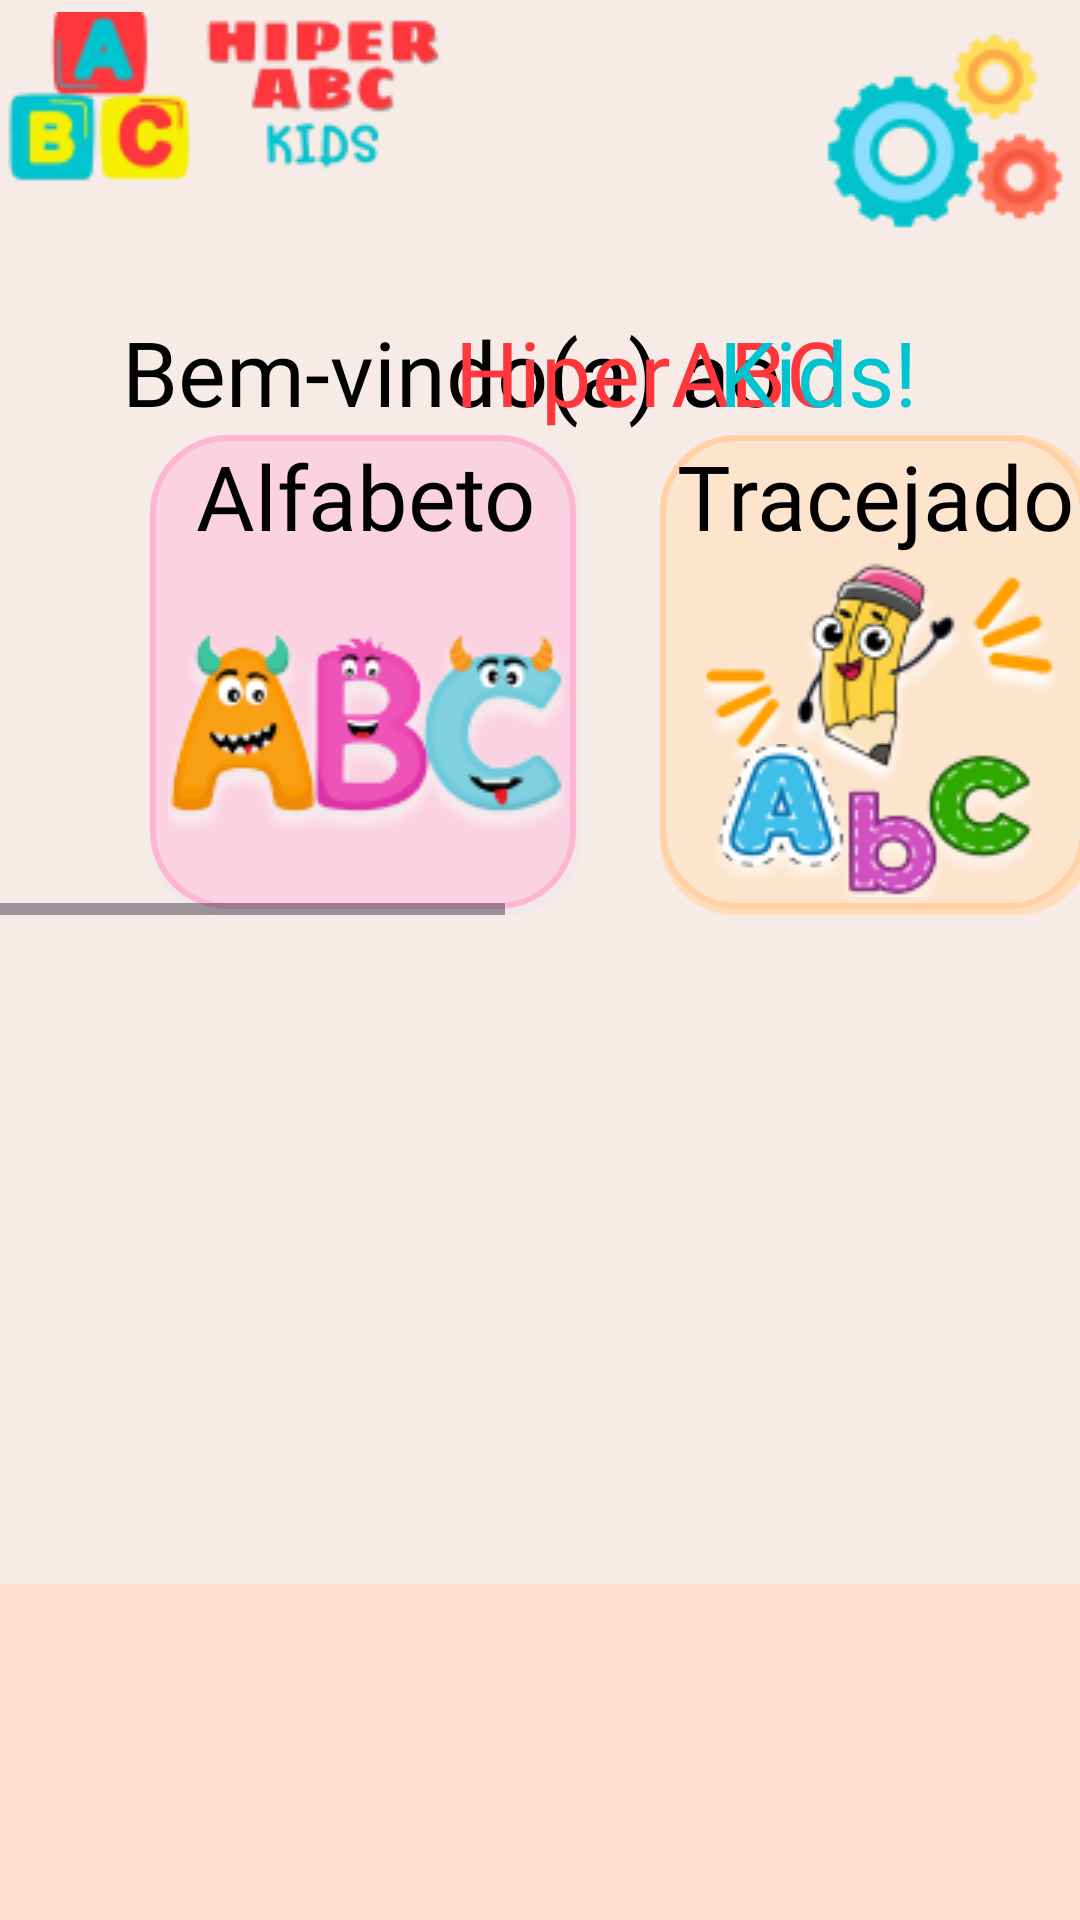

Named icons in this screenshot (1080x1920) and their bounding boxes, (x1, y1, x2, y2):
configuracao: (827, 34, 1063, 228)
